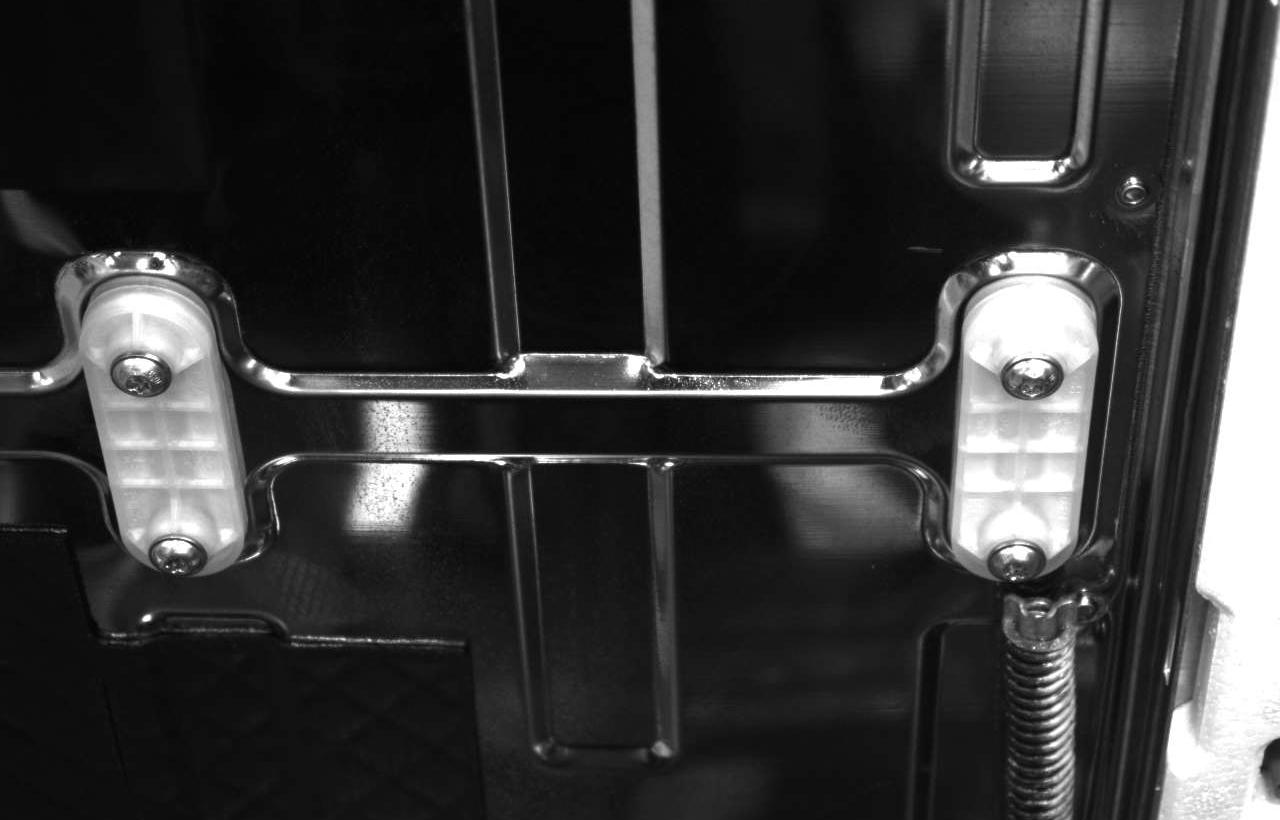vida-ok: (106, 339, 177, 407), (1004, 342, 1071, 409), (146, 522, 211, 581), (987, 531, 1053, 589)
